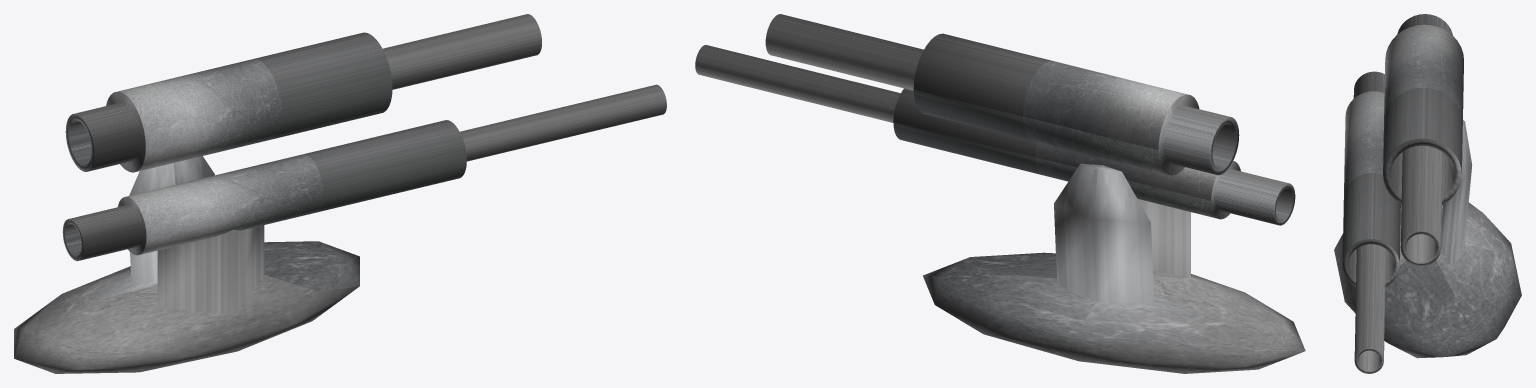
File: pieza8.fbx
3 renders of one model, left to right at view 1: azimuth 30°, elevation 25°; view 2: azimuth 150°, elevation 25°; view 3: azimuth 270°, elevation 25°, orthographic. The views are drawn at different scales.
Parts seen in each view (by area): view 1: Cylinder.064; view 2: Cylinder.064; view 3: Cylinder.064.
Part boxes in pixels (left/top/right/bottom): Cylinder.064: left=14, top=14, right=666, bottom=373; Cylinder.064: left=695, top=14, right=1305, bottom=373; Cylinder.064: left=1334, top=14, right=1521, bottom=373.
Bounding box in the file's own units: 530 × 200 × 146.
3 materials, 3 textured.
